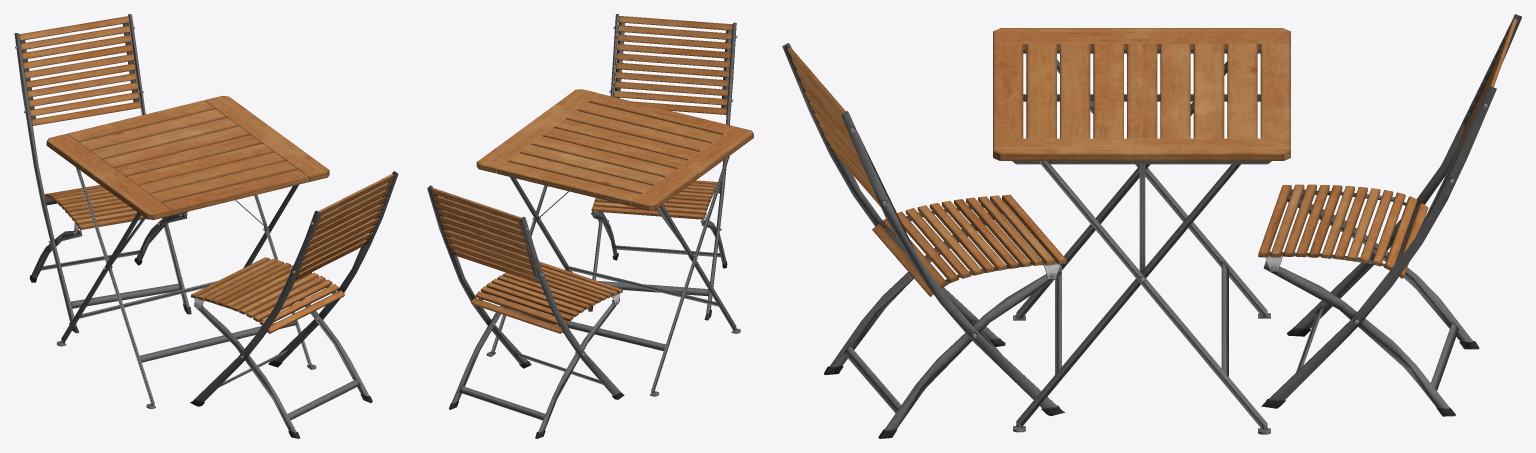
File: bistro_set.glb
3 renders of one model, left to right at view 1: azimuth 30°, elevation 25°; view 2: azimuth 150°, elevation 25°; view 3: azimuth 270°, elevation 25°, orthographic. The views are drawn at different scales.
Visible parts, largest first — view 1: outdoor_table_chair_set_01_chair_01, outdoor_table_chair_set_01_table; view 2: outdoor_table_chair_set_01_chair_01, outdoor_table_chair_set_01_table; view 3: outdoor_table_chair_set_01_table, outdoor_table_chair_set_01_chair_01.
Boxes of the visible parts, bbox=[...] form: outdoor_table_chair_set_01_chair_01: bbox=[14, 14, 398, 438]; outdoor_table_chair_set_01_table: bbox=[46, 95, 329, 408]; outdoor_table_chair_set_01_chair_01: bbox=[427, 14, 737, 438]; outdoor_table_chair_set_01_table: bbox=[476, 89, 753, 396]; outdoor_table_chair_set_01_table: bbox=[993, 28, 1290, 434]; outdoor_table_chair_set_01_chair_01: bbox=[782, 14, 1521, 438].
Bounding box in the file's own units: 0.7416 × 0.8576 × 1.72.
2 materials, 2 textured.
